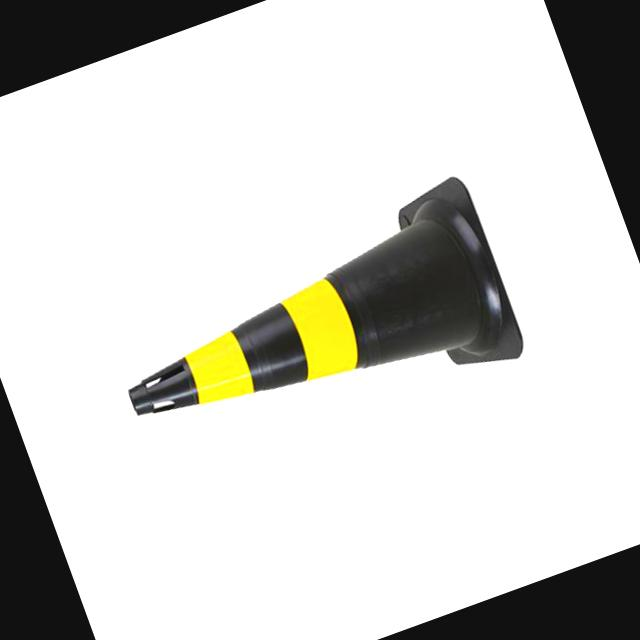cone: (82, 168, 540, 510)
